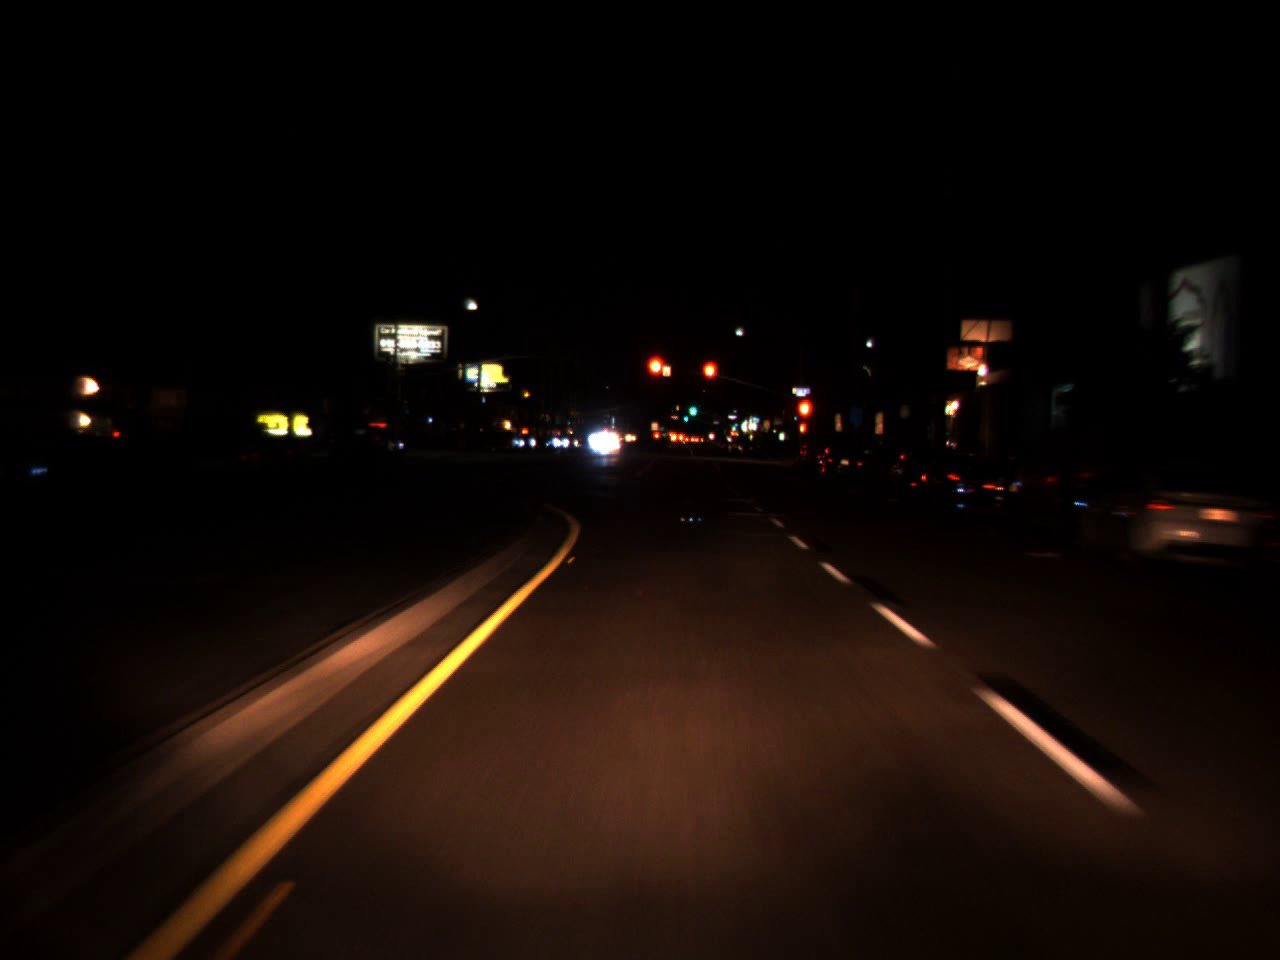go: (686, 395, 698, 419), (682, 411, 689, 423), (730, 418, 737, 430)
stop: (644, 354, 668, 397), (794, 395, 815, 440), (699, 359, 718, 399)
